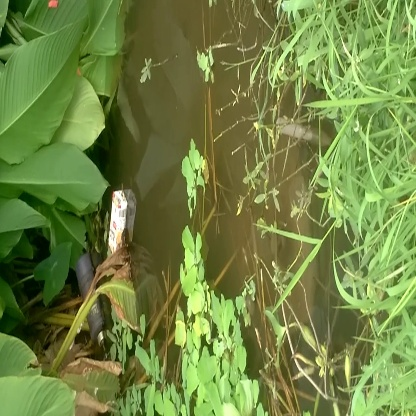bottle: (73, 254, 110, 346)
milk-box: (104, 190, 140, 257)
